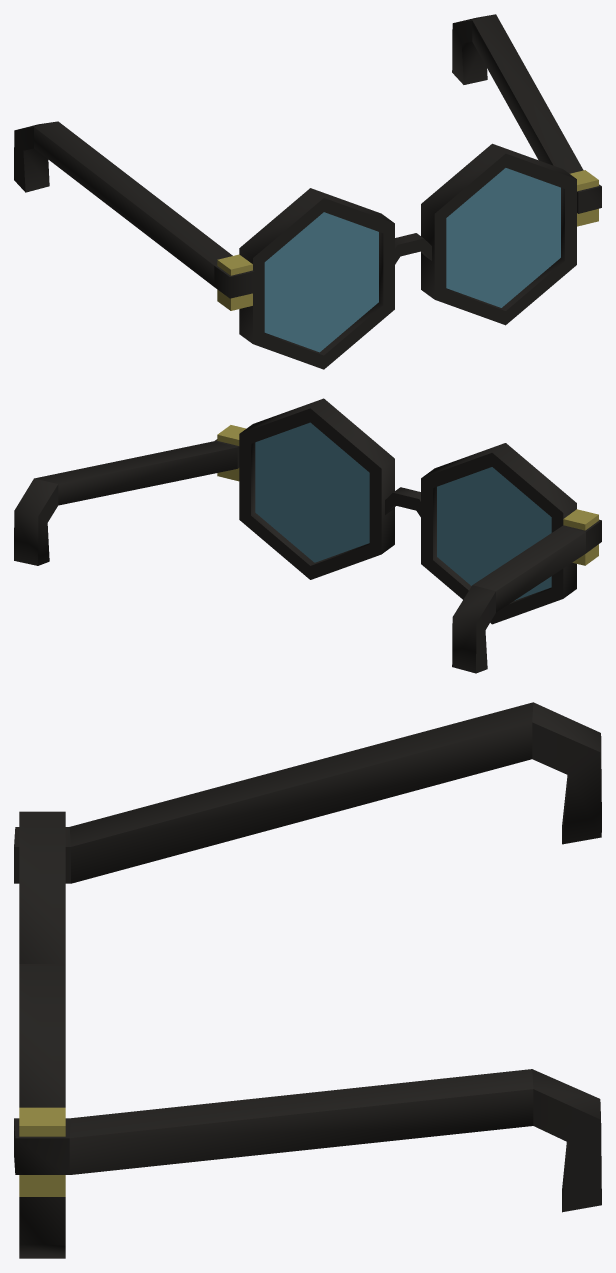
The model's file is Glasses.dae.
The picture shows the model from 3 angles, top to bottom: view 1: azimuth 30°, elevation 25°; view 2: azimuth 150°, elevation 25°; view 3: azimuth 270°, elevation 25°; orthographic projection. The views are drawn at different scales.
Visible parts, largest first — view 1: Glasses; view 2: Glasses; view 3: Glasses.
Boxes of the visible parts, box(x1,y1,x2,y2) form: Glasses: box(14, 14, 601, 369); Glasses: box(14, 398, 601, 673); Glasses: box(14, 702, 601, 1258).
Bounding box in the file's own units: 1.58 × 1.01 × 0.56.
